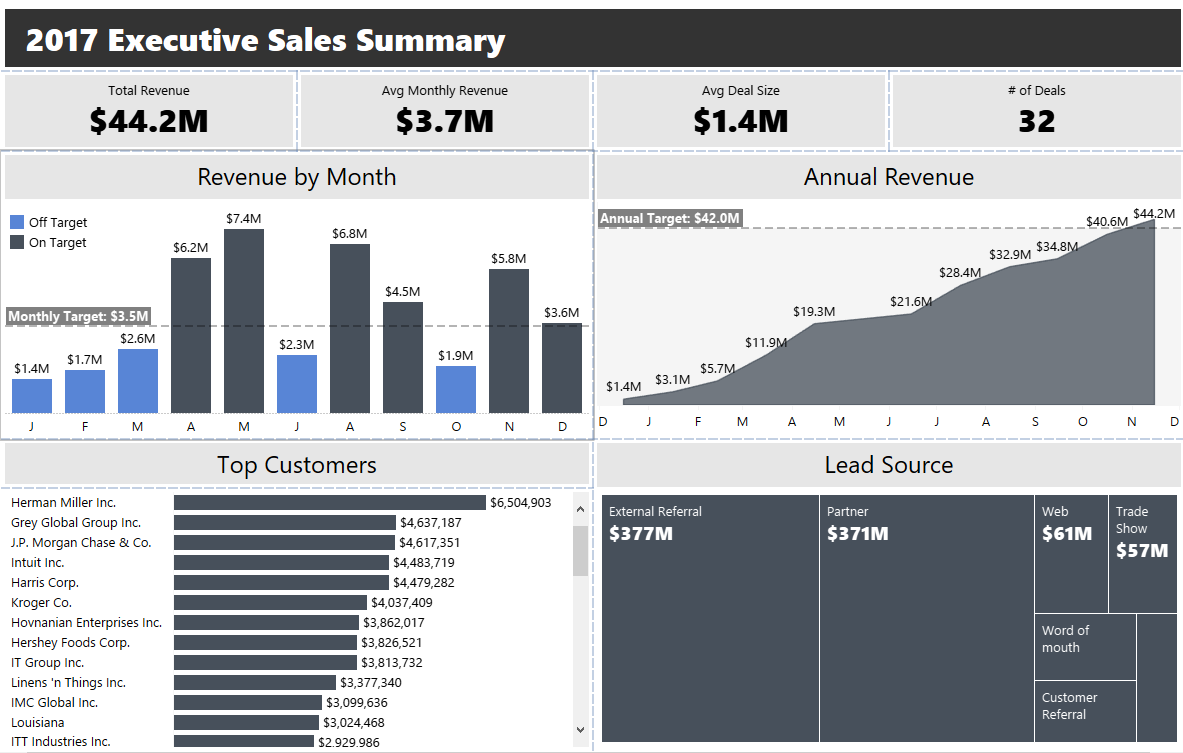

This screenshot's page, from the dashboard's own definition file:
{"tool":"tableau","page":{"name":"Executive Sales Summary","canvas":[1200,800],"ordinal":0},"visuals":[{"type":"text","box":[8,8,1184,65.6]},{"type":"worksheet","title":"Total Revenue","mark":"Automatic","box":[8,73.6,296,80.4]},{"type":"worksheet","title":"Avg Monthly Revenue","mark":"Automatic","box":[304,73.6,296,80.4]},{"type":"worksheet","title":"Avg Deal Size","mark":"Automatic","box":[600,73.6,296,79.9]},{"type":"worksheet","title":"# of Deals","mark":"Automatic","box":[896,73.6,296,79.9]},{"type":"worksheet","title":"Annual Revenue","mark":"Area","cols":["CLOSE_DATE"],"box":[600,153.6,592,288.3]},{"type":"worksheet","title":"Revenue by Month","mark":"Bar","rows":["AMOUNT"],"cols":["CLOSE_DATE"],"box":[8,154,592,287.9]},{"type":"legend","title":"Revenue by Month","param":"[federated.0lcmrhe183cw1p163m0yq1vaqxma].[usr:Calculation_611926661635424263:nk]","box":[14,215,107,40]},{"type":"text","box":[8,441.9,592,49.5]},{"type":"worksheet","title":"Lead Source","mark":"Automatic","box":[600,441.9,592,312.1]},{"type":"worksheet","title":"Top Customers","mark":"Automatic","rows":["Calculation_611926661461823492"],"cols":["AMOUNT"],"box":[8,491.4,592,262.6]},{"type":"text","box":[8,754,1184,38]}]}

Visuals, with their boxes on the page's 1200x800 design canvas (x1, y1, x2, y2). These are canvas units, not pixel positions in the 1183x753 screenshot, which may show the page scaled, cropped or inside an application window:
text: left=8, top=8, right=1192, bottom=74
"Total Revenue" worksheet: left=8, top=74, right=304, bottom=154
"Avg Monthly Revenue" worksheet: left=304, top=74, right=600, bottom=154
"Avg Deal Size" worksheet: left=600, top=74, right=896, bottom=154
"# of Deals" worksheet: left=896, top=74, right=1192, bottom=154
"Annual Revenue" worksheet (Area marks): left=600, top=154, right=1192, bottom=442
"Revenue by Month" worksheet (Bar marks): left=8, top=154, right=600, bottom=442
"Revenue by Month" legend: left=14, top=215, right=121, bottom=255
text: left=8, top=442, right=600, bottom=491
"Lead Source" worksheet: left=600, top=442, right=1192, bottom=754
"Top Customers" worksheet: left=8, top=491, right=600, bottom=754
text: left=8, top=754, right=1192, bottom=792
